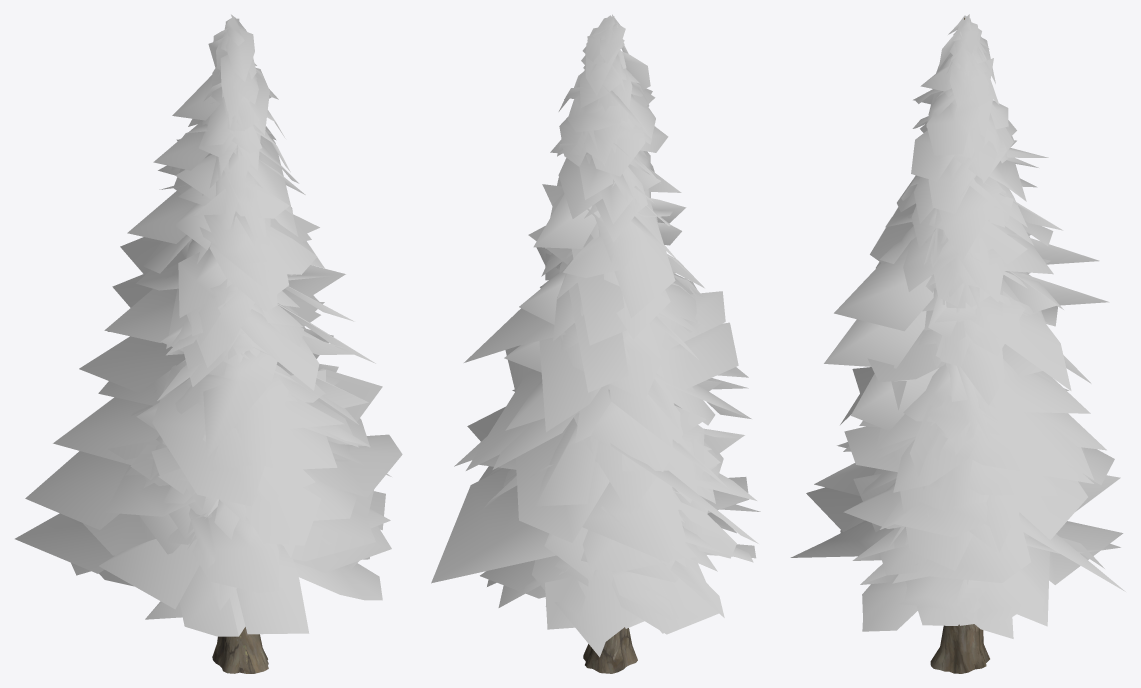
Rendered from SM_Com_Tre_15AL.fbx.
3 renders of one model, left to right at view 1: azimuth 30°, elevation 25°; view 2: azimuth 150°, elevation 25°; view 3: azimuth 270°, elevation 25°, orthographic.
Parts seen in each view (by area): view 1: SM_Com_Tre_15AL.mo; view 2: SM_Com_Tre_15AL.mo; view 3: SM_Com_Tre_15AL.mo.
Part boxes in pixels (x1,y1,x2,y2): SM_Com_Tre_15AL.mo: (15, 14, 402, 673); SM_Com_Tre_15AL.mo: (431, 14, 760, 673); SM_Com_Tre_15AL.mo: (790, 14, 1125, 673).
Size of the model in its own units: 7.22 by 13.63 by 6.45.
